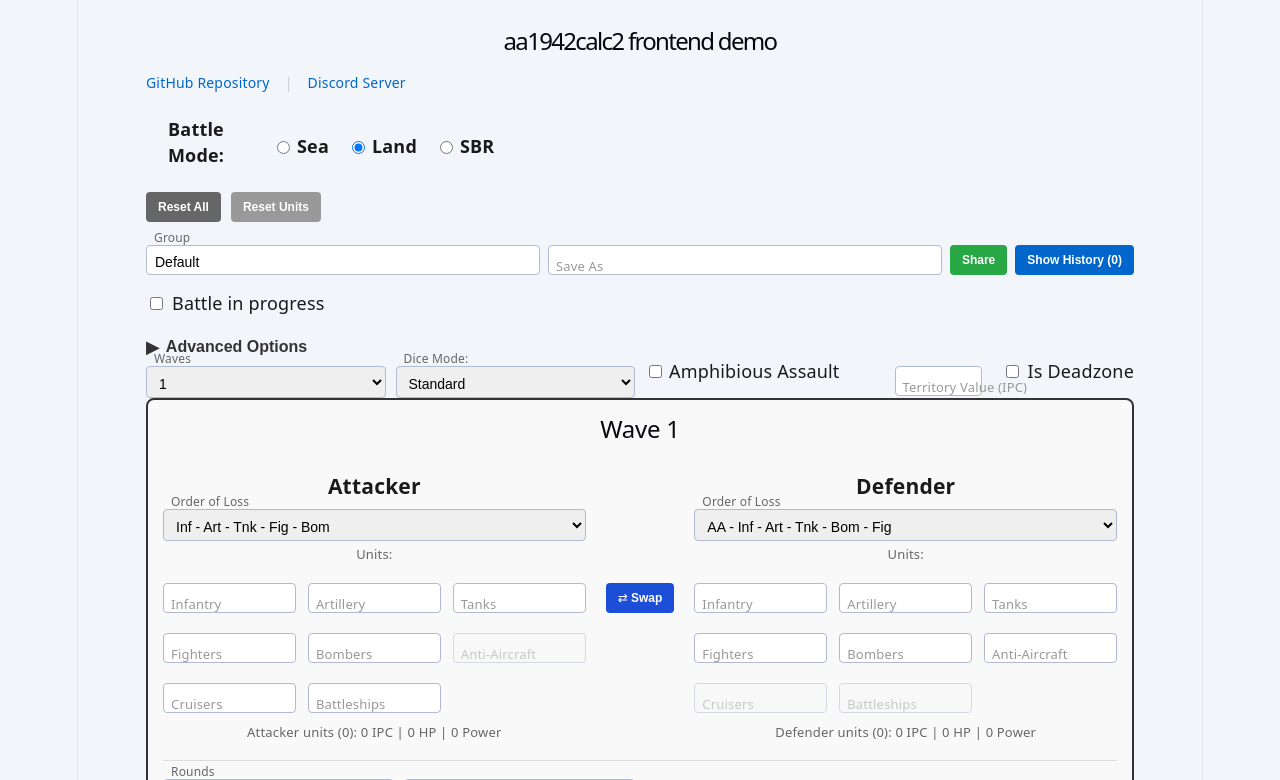
Test case: grouped history › saves an entry under the group/name pair
Click the radio button labelled "SBR".
click(446, 148)  # box [440,141,453,154]
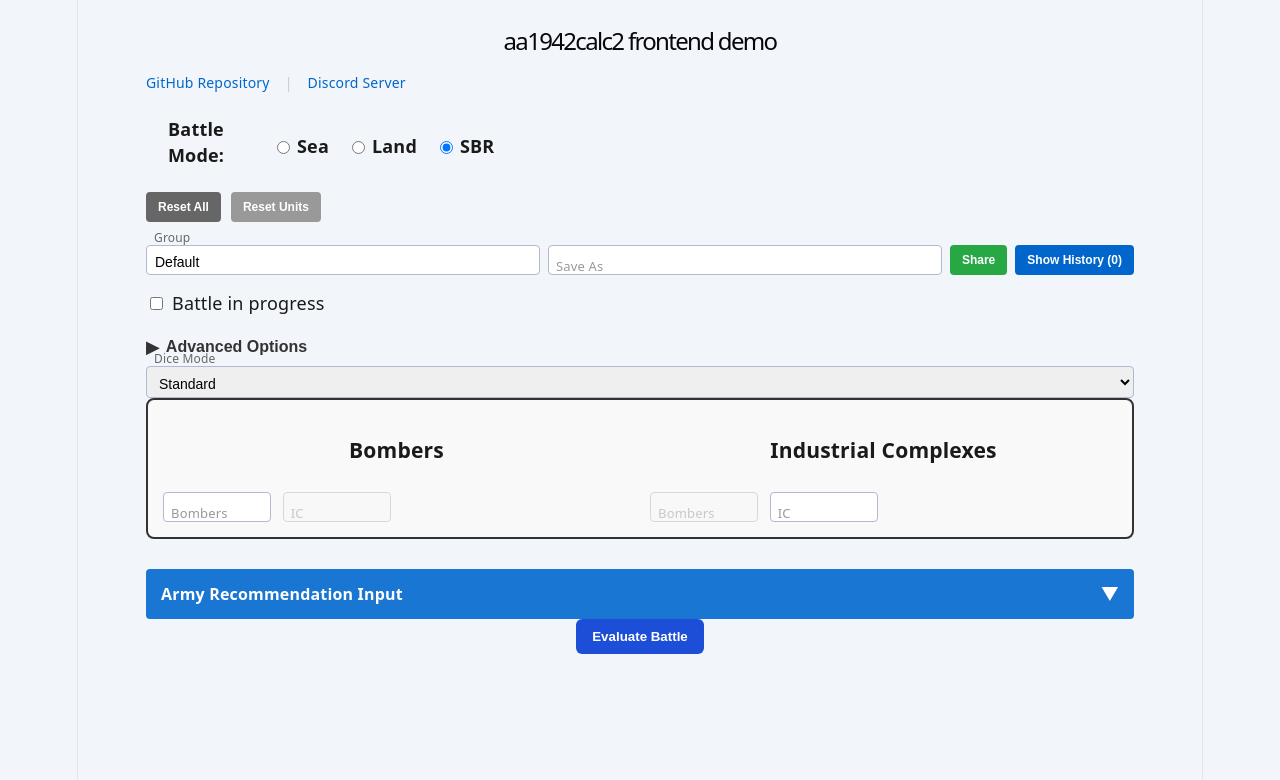
Result: the element showing "Bombers Bombers IC Industrial Complexes Bombers IC" is shown at [146,398,1134,539]
Type "5" into the 1st number field.
click(217, 507); type("5")  # box [163,492,271,522]
Type "1" into the 4th number field.
click(824, 507); type("1")  # box [770,492,878,522]
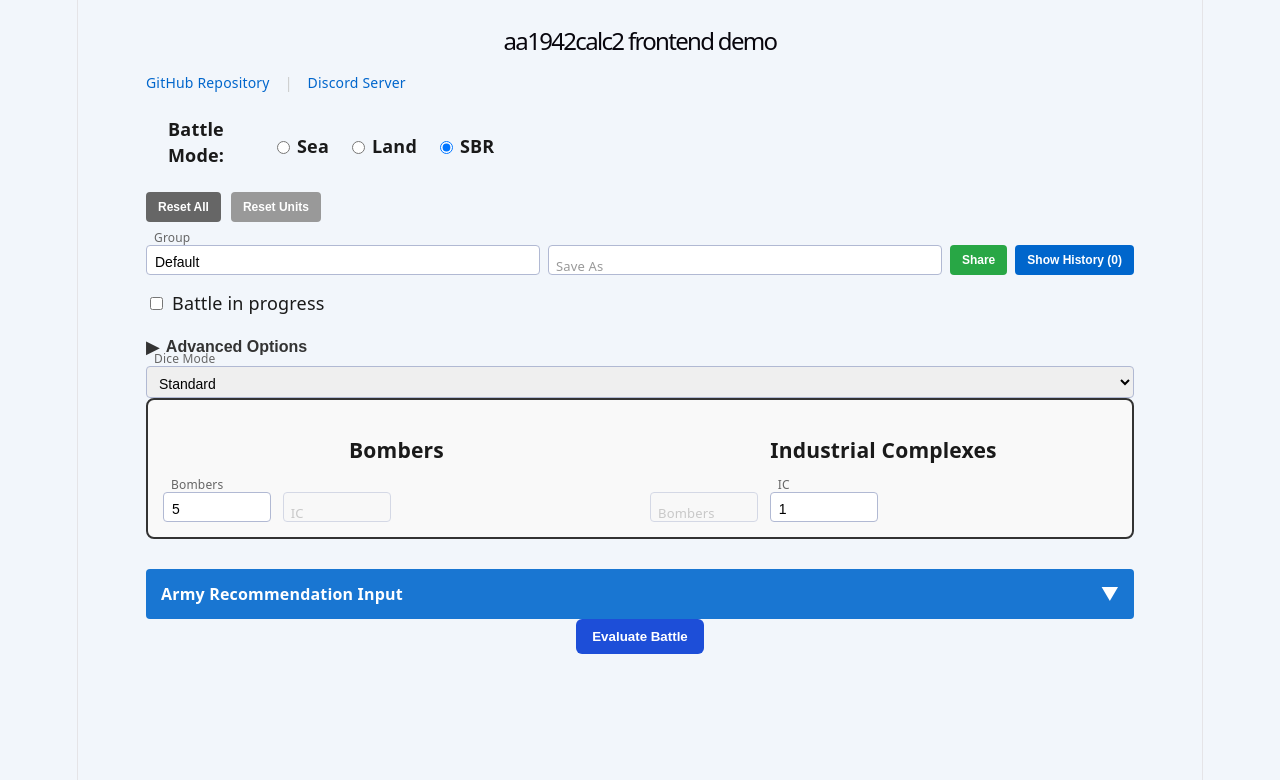
Replace the text in the field labelled "Group" with "Moscow" at (343, 260), box [146,245,540,275]
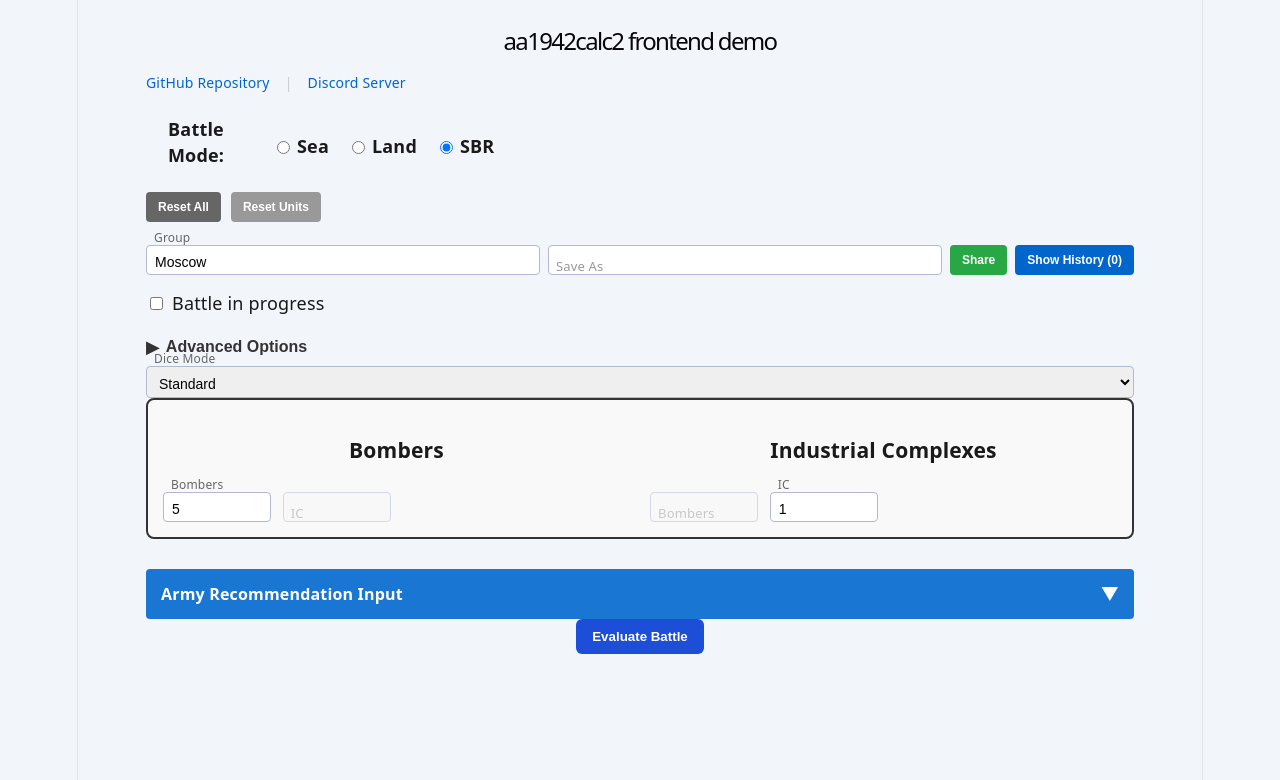
Type "no retreat" into the field labelled "Save As".
click(745, 260); type("no retreat")  # box [548,245,942,275]
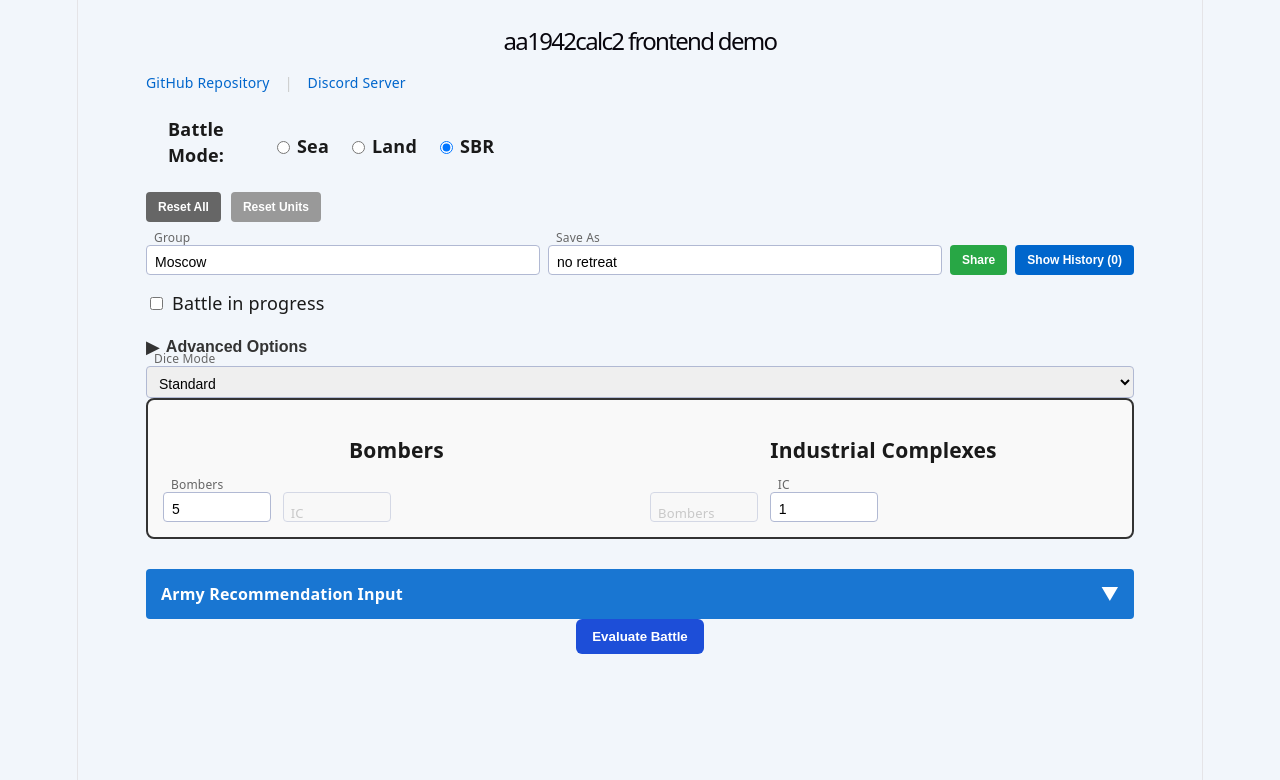
Click the button "Evaluate Battle".
click(640, 636)  # box [576,619,704,654]
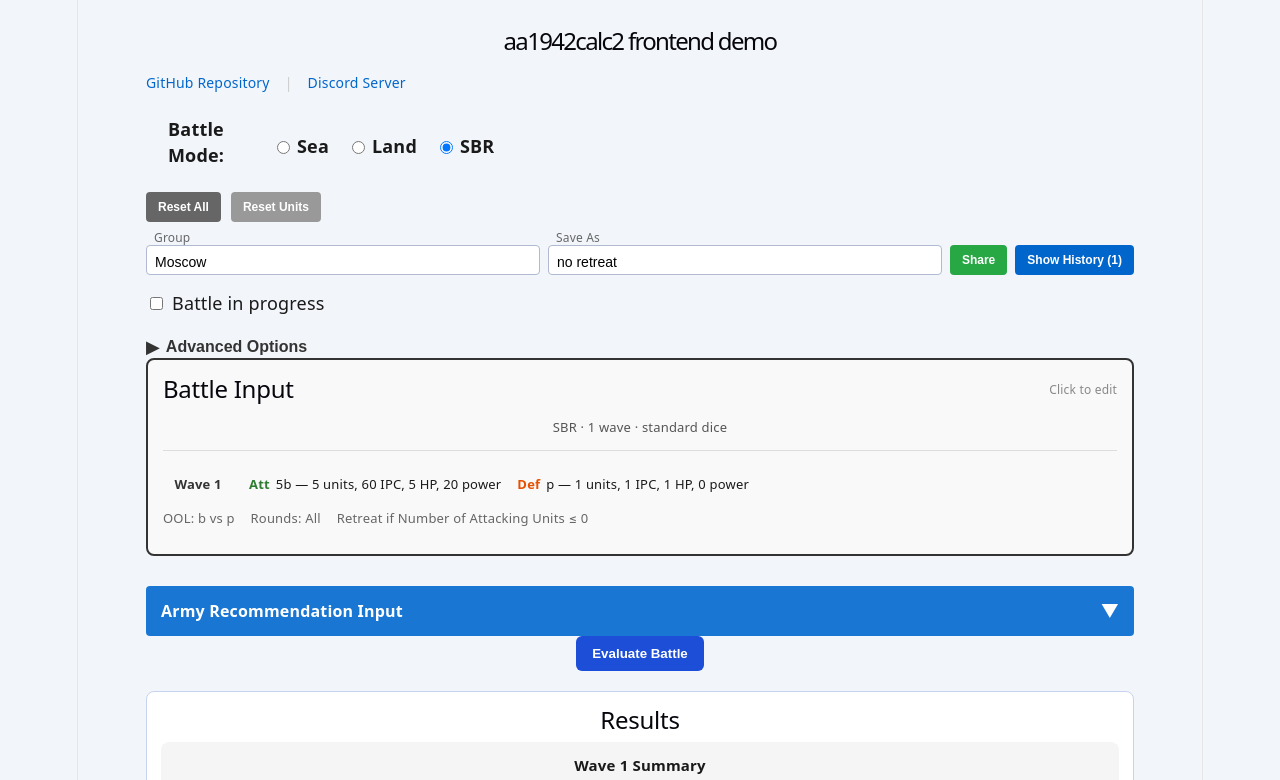
Click the button "Show History (1)".
click(1075, 260)  # box [1015,245,1134,275]
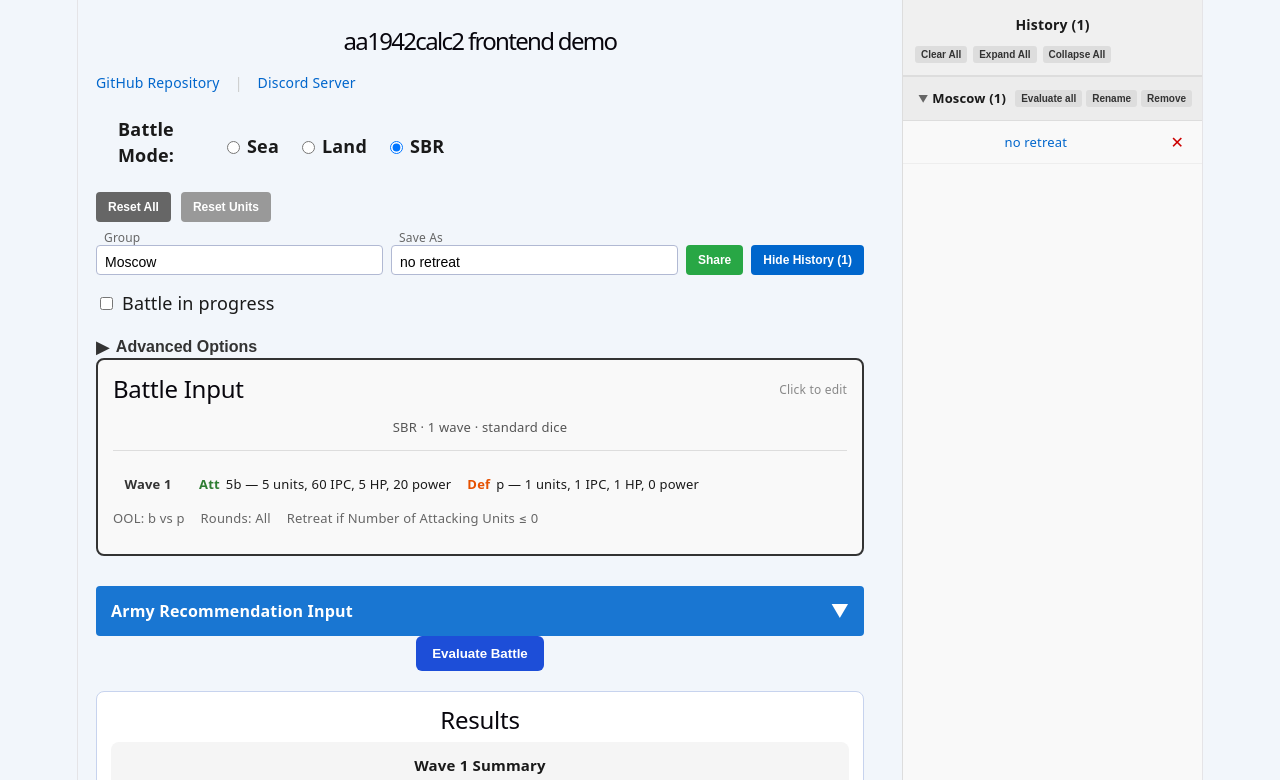
Result: the element titled "Moscow" shows "Moscow (1)" at [913,85,1011,112]
Result: the text "no retreat" is shown at [1004,133,1067,151]
